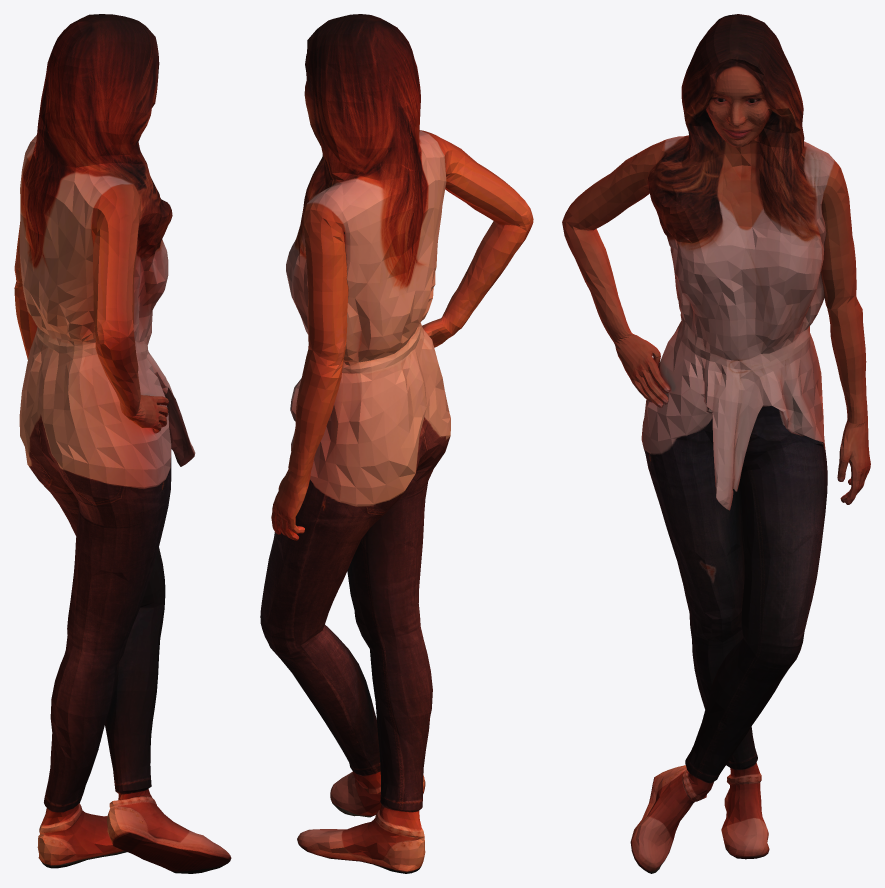
Rendered from woman4.glb.
3 renders of one model, left to right at view 1: azimuth 30°, elevation 25°; view 2: azimuth 150°, elevation 25°; view 3: azimuth 270°, elevation 25°, orthographic. The views are drawn at different scales.
Visible parts, largest first — view 1: rp_sophia_animated_003_idling_geo; view 2: rp_sophia_animated_003_idling_geo; view 3: rp_sophia_animated_003_idling_geo.
Boxes of the visible parts, x1,y1,x2,y2 form: rp_sophia_animated_003_idling_geo: [14, 14, 231, 873]; rp_sophia_animated_003_idling_geo: [260, 14, 533, 873]; rp_sophia_animated_003_idling_geo: [562, 14, 870, 873].
Size of the model in its own units: 1.3 by 6.16 by 2.1.
Materials: 1 (1 with a texture image).
